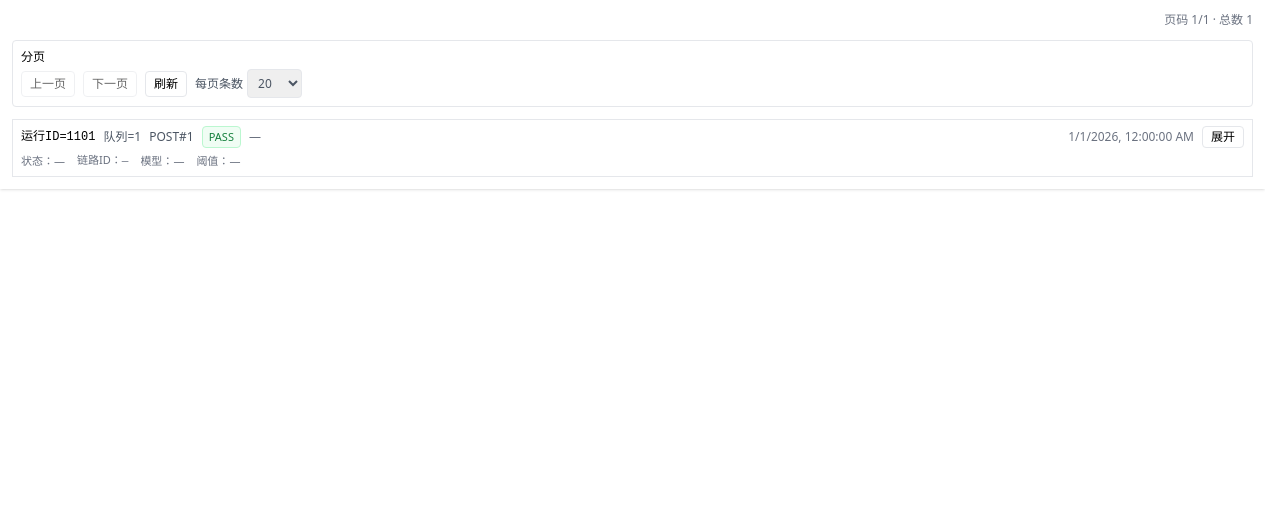
Test: ModerationPipelineHistoryPanel › 从 LLM step.details 的候选路径解析模型/阈值，并在 stepOrder 相同时时间排序取最后一个 LLM step
What coordinates should you click on to do the following:
click the button "展开"
I would click on:
 (1223, 137)
Its box is [1202, 126, 1244, 148].
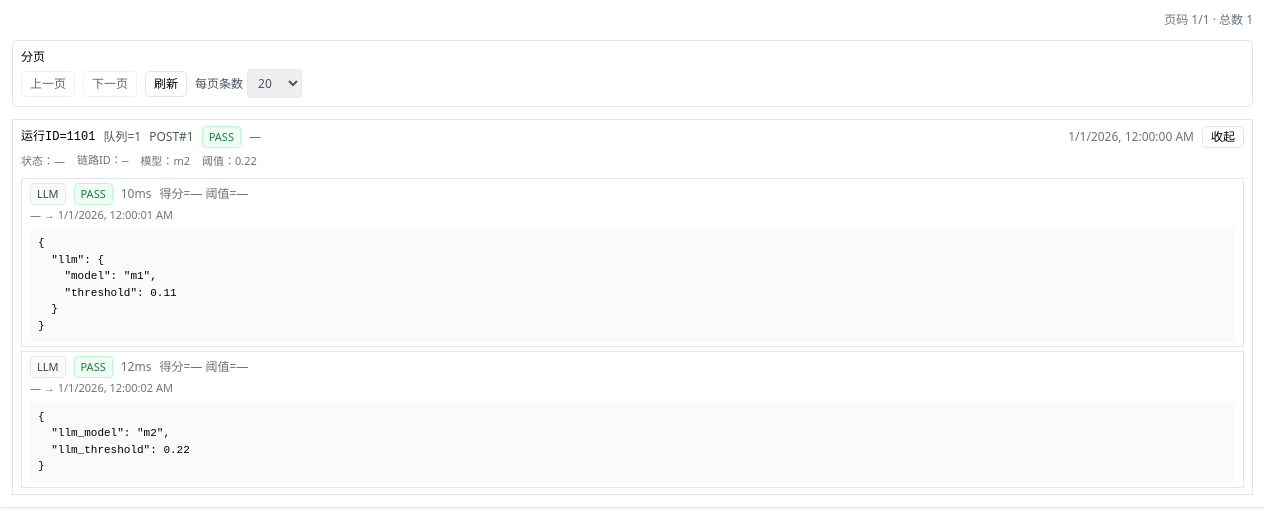
Expected: the text "模型：m2" is shown, [140, 152, 190, 169]
Expected: the text "阈值：0.22" is shown, [202, 152, 257, 169]
